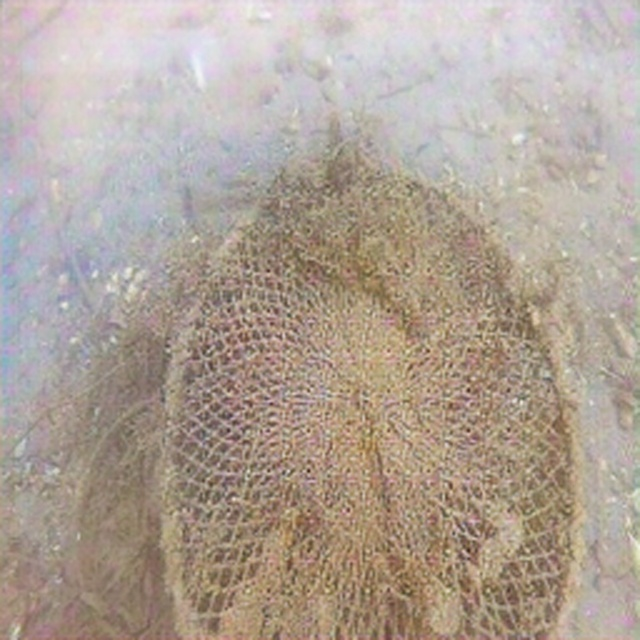mine: (156, 149, 589, 639)
